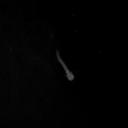fish: (56, 48, 75, 82)
